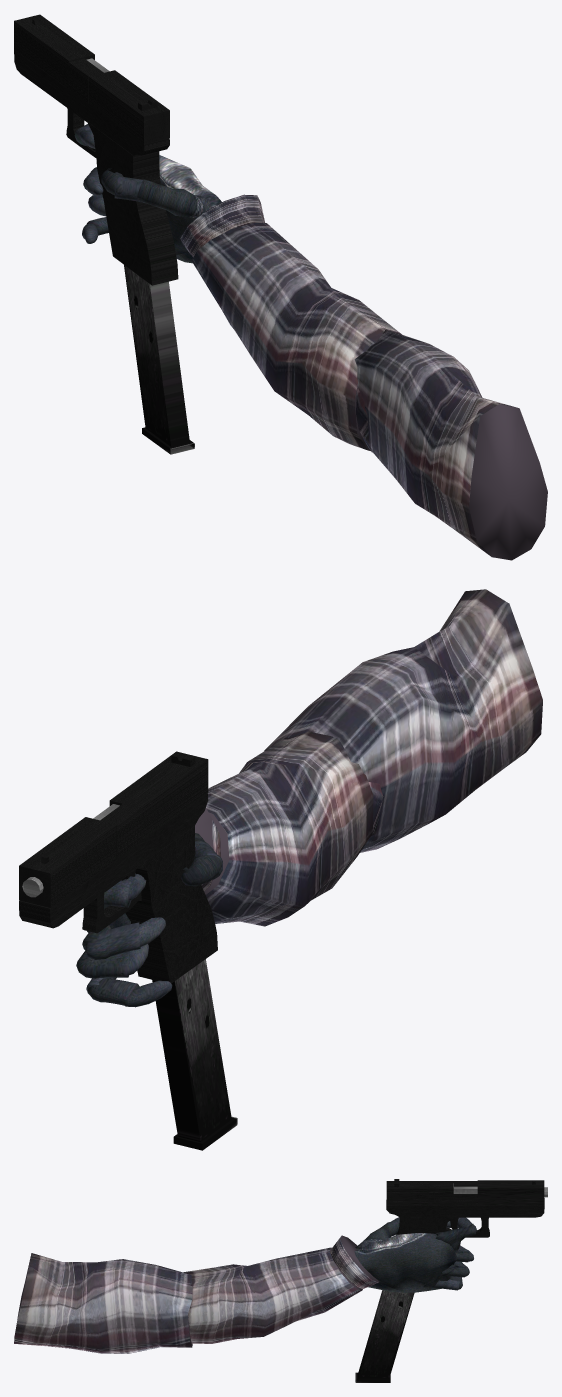
The model's file is glock18_ads.fbx.
3 views of the same model, one above another, from view 1: azimuth 30°, elevation 25°; view 2: azimuth 150°, elevation 25°; view 3: azimuth 270°, elevation 25° (orthographic). The views are drawn at different scales.
Parts seen in each view (by area): view 1: rupperarm, rforearm, glock_slide, glock_clip, glock_grip, glock_body, rhand, rthumbback; view 2: rupperarm, rforearm, glock_slide, glock_clip, glock_grip, glock_body, rmfingermiddle, glock_guard, rifingermiddle, rpinkymiddle, rthumbfront, rpinkyfront; view 3: rupperarm, rforearm, rhand, glock_slide, glock_clip, glock_body, glock_grip, rpfingerback, rthumbback, glock_guard.
Part boxes in pixels (x1,y1,x2,y2): rupperarm: (354, 330, 547, 560); rforearm: (180, 194, 402, 450); glock_slide: (14, 14, 169, 143); glock_clip: (124, 265, 194, 454); glock_grip: (87, 121, 178, 285); glock_body: (14, 49, 169, 155); rhand: (159, 155, 221, 263); rthumbback: (137, 179, 211, 217); rupperarm: (264, 589, 542, 852); rforearm: (195, 731, 373, 926); glock_slide: (19, 751, 208, 907); glock_clip: (152, 959, 237, 1150); glock_grip: (125, 826, 217, 983); glock_body: (19, 793, 208, 928); rmfingermiddle: (85, 922, 140, 959); glock_guard: (82, 892, 141, 933); rifingermiddle: (77, 952, 129, 978); rpinkymiddle: (88, 978, 139, 1006); rthumbfront: (181, 854, 222, 886); rpinkyfront: (122, 980, 172, 1007); rupperarm: (14, 1253, 192, 1353); rforearm: (183, 1235, 379, 1343); rhand: (354, 1233, 457, 1292); glock_slide: (386, 1179, 544, 1205); glock_clip: (355, 1290, 414, 1382); glock_body: (386, 1198, 544, 1217); glock_grip: (396, 1216, 455, 1234); rpfingerback: (434, 1224, 476, 1252); rthumbback: (355, 1222, 392, 1249); glock_guard: (445, 1217, 489, 1237).
Size of the model in its own units: 5.29 by 11.79 by 28.83.
Materials: 5 (5 with a texture image).
